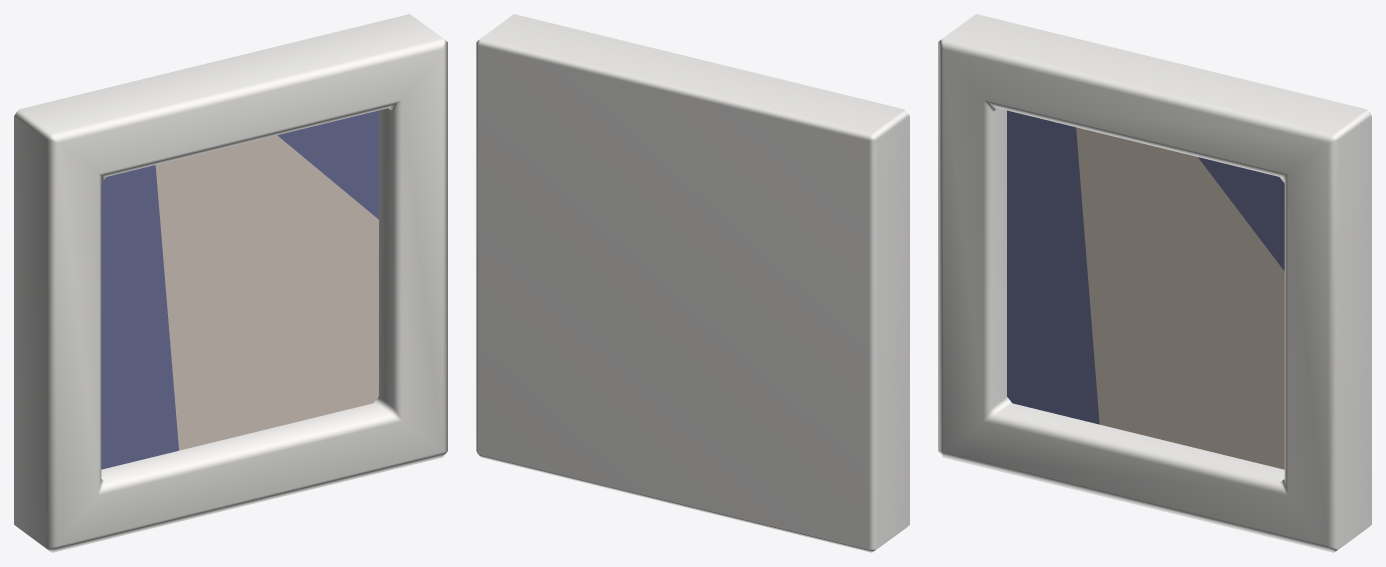
Rendered from Painting_11.glb.
3 renders of one model, left to right at view 1: azimuth 30°, elevation 25°; view 2: azimuth 150°, elevation 25°; view 3: azimuth 330°, elevation 25°, orthographic.
Visible parts, largest first — view 1: Painting_11; view 2: Painting_11; view 3: Painting_11.
Part boxes in pixels (x1,y1,x2,y2): Painting_11: (14,14,447,552); Painting_11: (476,14,909,552); Painting_11: (938,14,1371,552).
Size of the model in its own units: 0.7892 by 0.7892 by 0.1322.
Materials: 1 (1 with a texture image).
